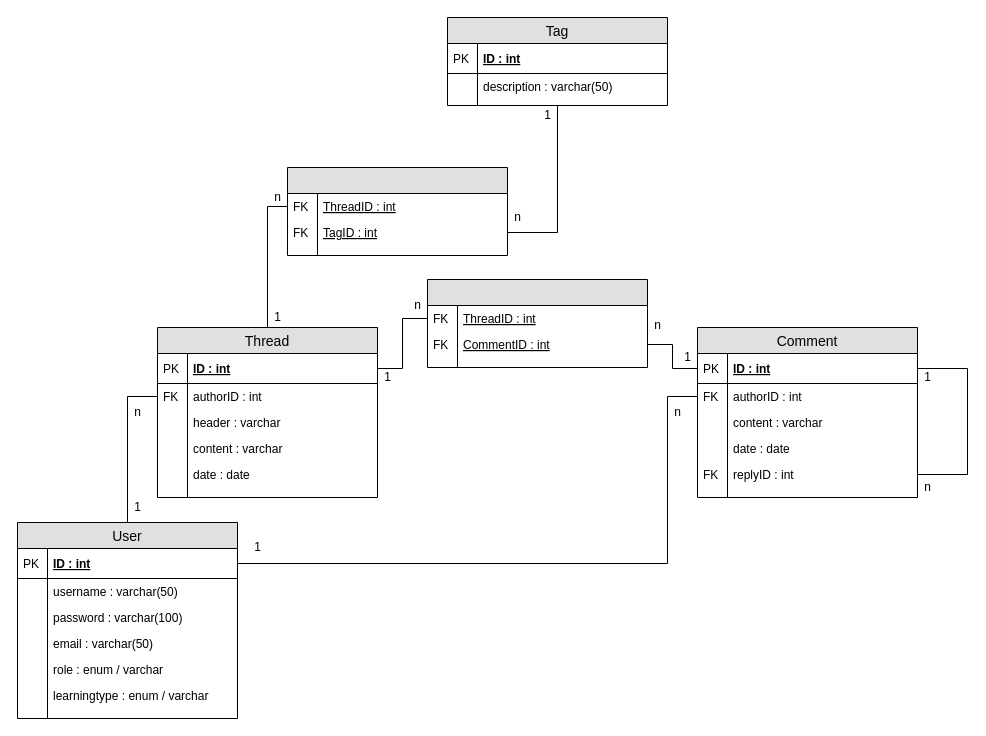
The diagram is 986 pixels wide and 736 high, and some of its shapes have lost their labels. Each missing label, with the box of its shape:
Thread_Comment: (426, 278, 648, 368)
Thread_Tag: (286, 166, 508, 256)
